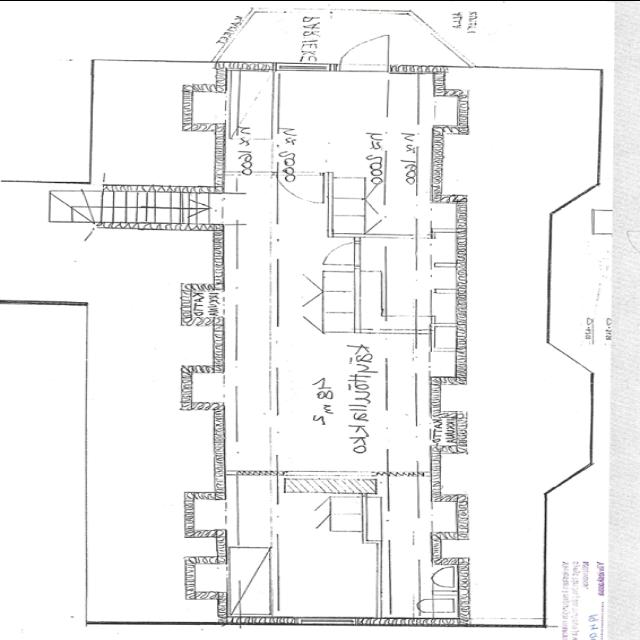door: (332, 33, 399, 72), (278, 167, 328, 205)
